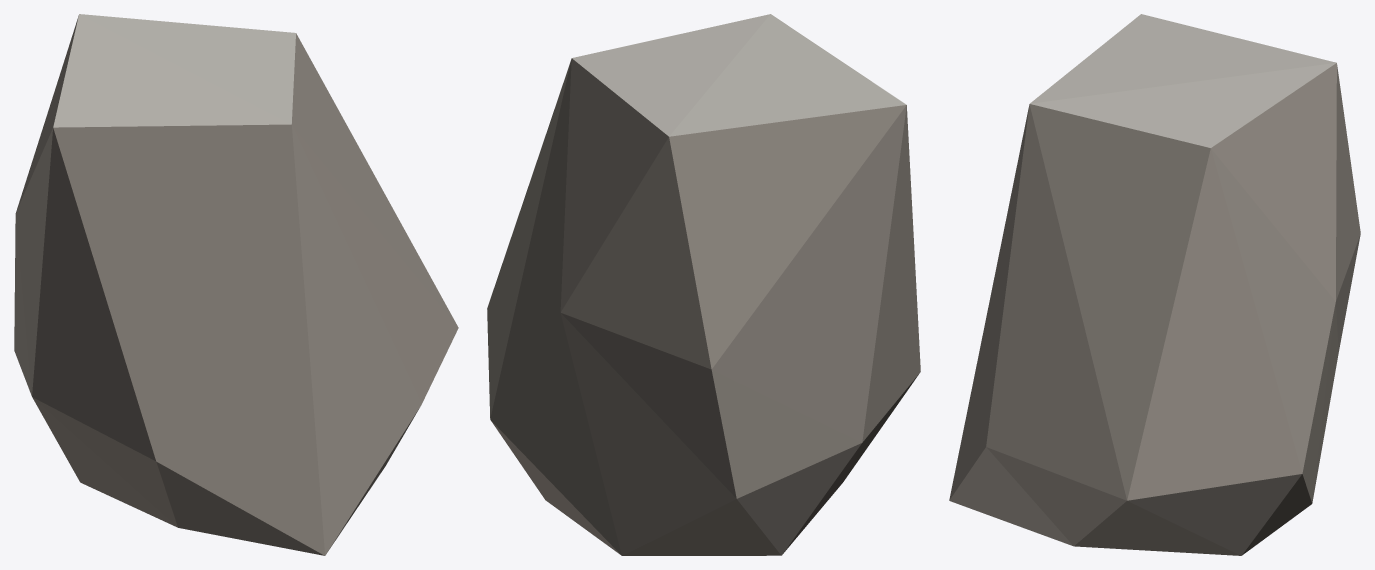
File: Boulder_C.fbx
The picture shows the model from 3 angles, left to right: view 1: azimuth 30°, elevation 25°; view 2: azimuth 150°, elevation 25°; view 3: azimuth 270°, elevation 25°; orthographic projection. The views are drawn at different scales.
Parts seen in each view (by area): view 1: Boulder_C; view 2: Boulder_C; view 3: Boulder_C.
Boxes of the visible parts, left/top/right/bottom form: Boulder_C: left=14, top=14, right=458, bottom=555; Boulder_C: left=487, top=14, right=920, bottom=555; Boulder_C: left=949, top=14, right=1360, bottom=555.
Bounding box in the file's own units: 2.85 × 2.85 × 2.55.
